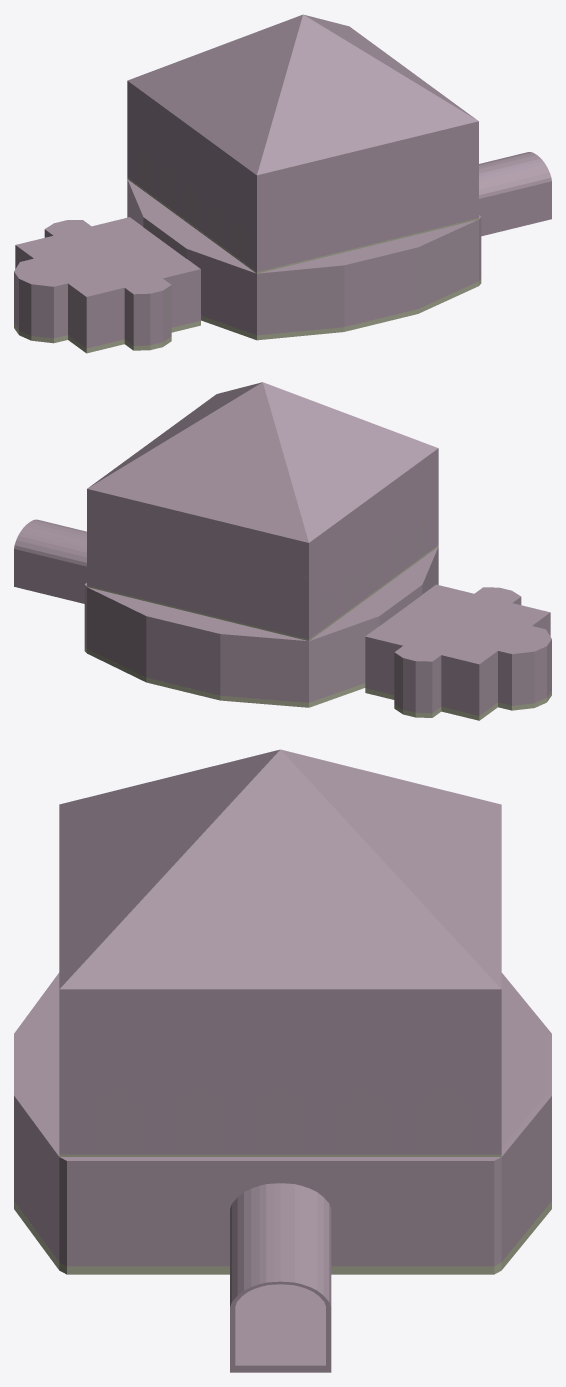
File: PrototypeLevel.fbx
3 views of the same model, one above another, from view 1: azimuth 30°, elevation 25°; view 2: azimuth 150°, elevation 25°; view 3: azimuth 270°, elevation 25° (orthographic). The views are drawn at different scales.
Visible parts, largest first — view 1: Walls2, Ceiling, Walls1, Walls_A2, Ceiling_A2, Corridor, Floor1, Floor_A2, Floor2; view 2: Walls2, Ceiling, Walls1, Walls_A2, Ceiling_A2, Corridor, Floor1, Floor_A2, Floor2; view 3: Ceiling, Walls2, Walls1, Corridor, Floor1, Floor2.
Part boxes in pixels (bbox=[...]): Walls2: bbox=[127, 81, 478, 271]; Ceiling: bbox=[127, 14, 478, 175]; Walls1: bbox=[127, 179, 481, 335]; Walls_A2: bbox=[14, 229, 200, 348]; Ceiling_A2: bbox=[14, 217, 200, 296]; Corridor: bbox=[479, 152, 551, 236]; Floor1: bbox=[201, 279, 481, 340]; Floor_A2: bbox=[14, 321, 200, 353]; Floor2: bbox=[127, 177, 478, 273]; Walls2: bbox=[87, 448, 438, 639]; Ceiling: bbox=[87, 382, 437, 542]; Walls1: bbox=[84, 546, 438, 702]; Walls_A2: bbox=[365, 597, 551, 715]; Ceiling_A2: bbox=[365, 584, 551, 664]; Corridor: bbox=[14, 519, 86, 603]; Floor1: bbox=[84, 646, 365, 707]; Floor_A2: bbox=[365, 688, 551, 720]; Floor2: bbox=[87, 545, 438, 640]; Ceiling: bbox=[59, 749, 501, 989]; Walls2: bbox=[59, 989, 501, 1154]; Walls1: bbox=[14, 972, 551, 1266]; Corridor: bbox=[230, 1183, 331, 1372]; Floor1: bbox=[14, 1201, 551, 1274]; Floor2: bbox=[59, 1154, 501, 1156].
Size of the model in its own units: 17840 by 8270 by 9401.
